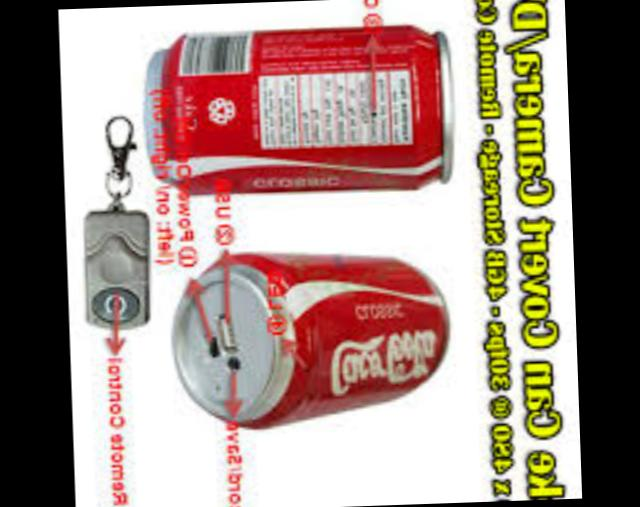metal: (150, 29, 454, 197), (177, 257, 450, 431)
